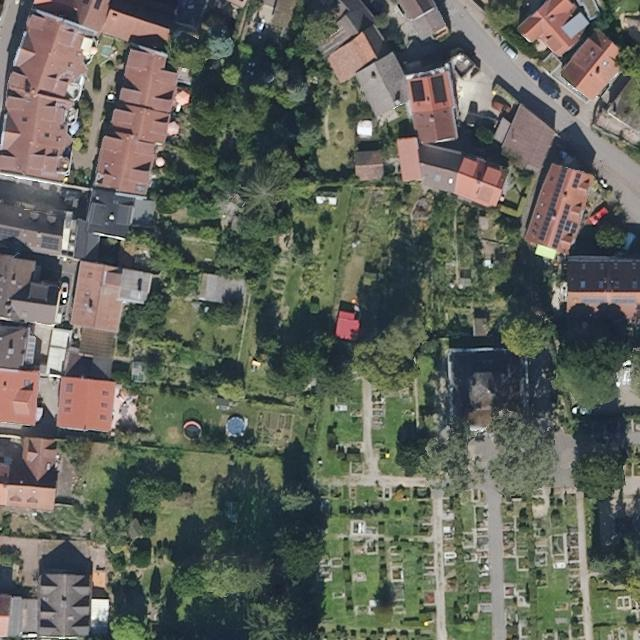PV: (536, 165, 570, 243), (551, 202, 580, 250), (430, 75, 448, 104), (409, 79, 427, 104), (571, 171, 583, 191), (580, 297, 608, 304), (610, 297, 637, 304)
